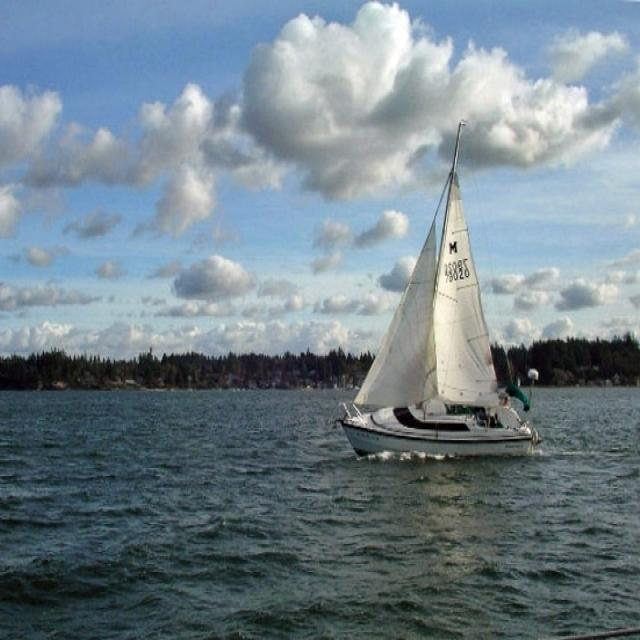Ship: (334, 125, 542, 464)
